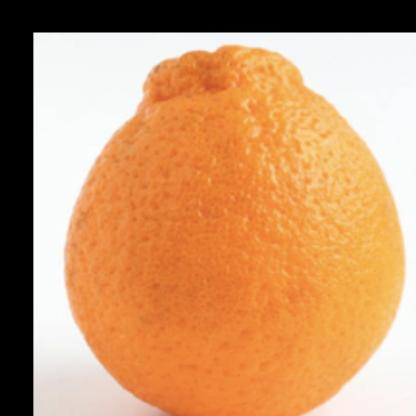fresh: (62, 37, 405, 416)
